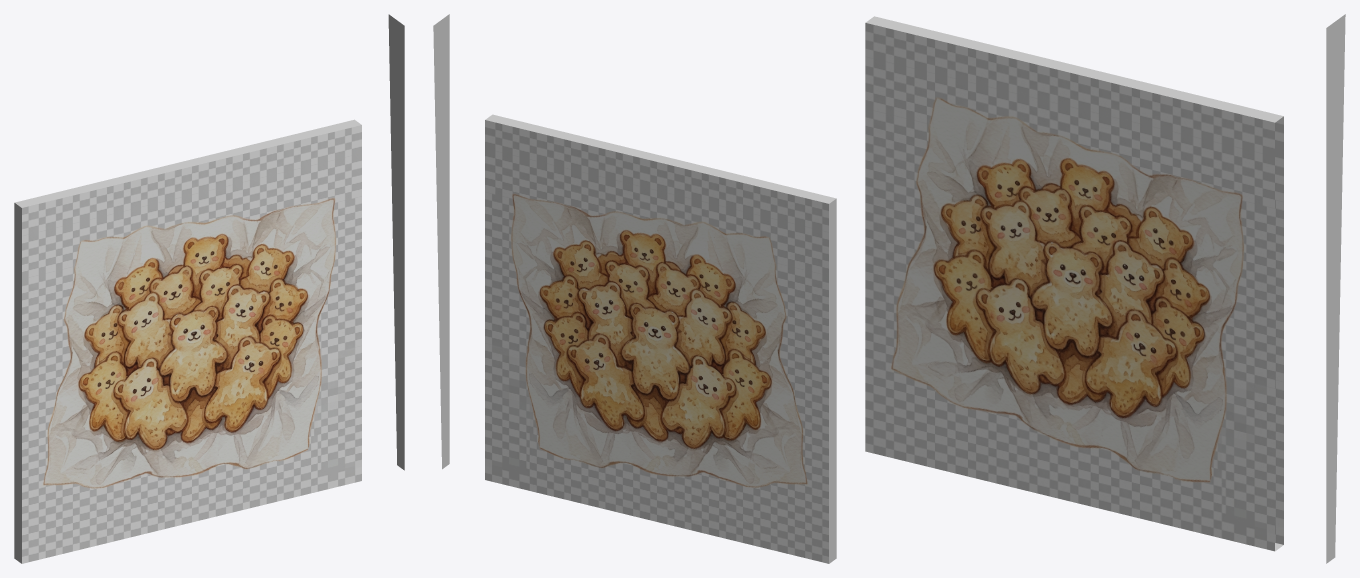
File: bear_cookie.glb
The picture shows the model from 3 angles, left to right: view 1: azimuth 30°, elevation 25°; view 2: azimuth 150°, elevation 25°; view 3: azimuth 330°, elevation 25°; orthographic projection. The views are drawn at different scales.
Bounding box in the file's own units: 0.9 × 1 × 0.065.
1 material, 1 textured.
